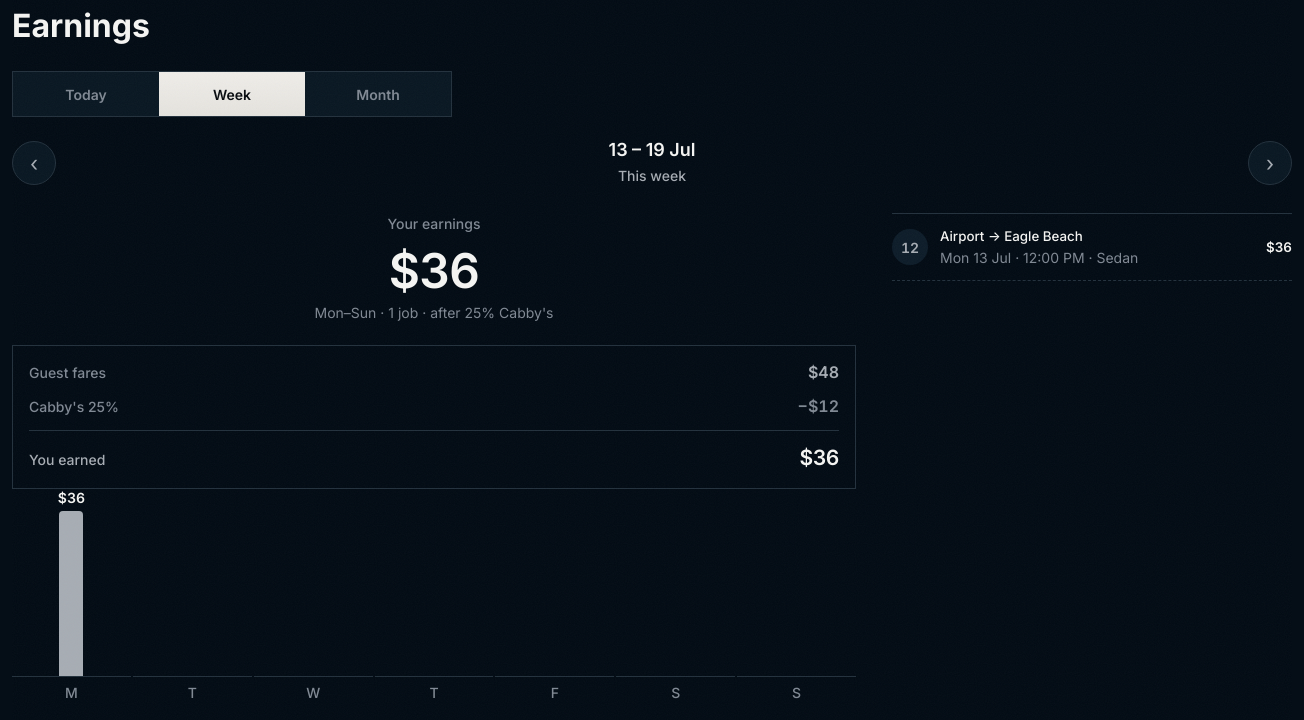
Earnings › totals a whole month, not only a week
The image size is (1304, 720).
Click the button "Month": point(378, 94) left=305, top=72, right=451, bottom=116
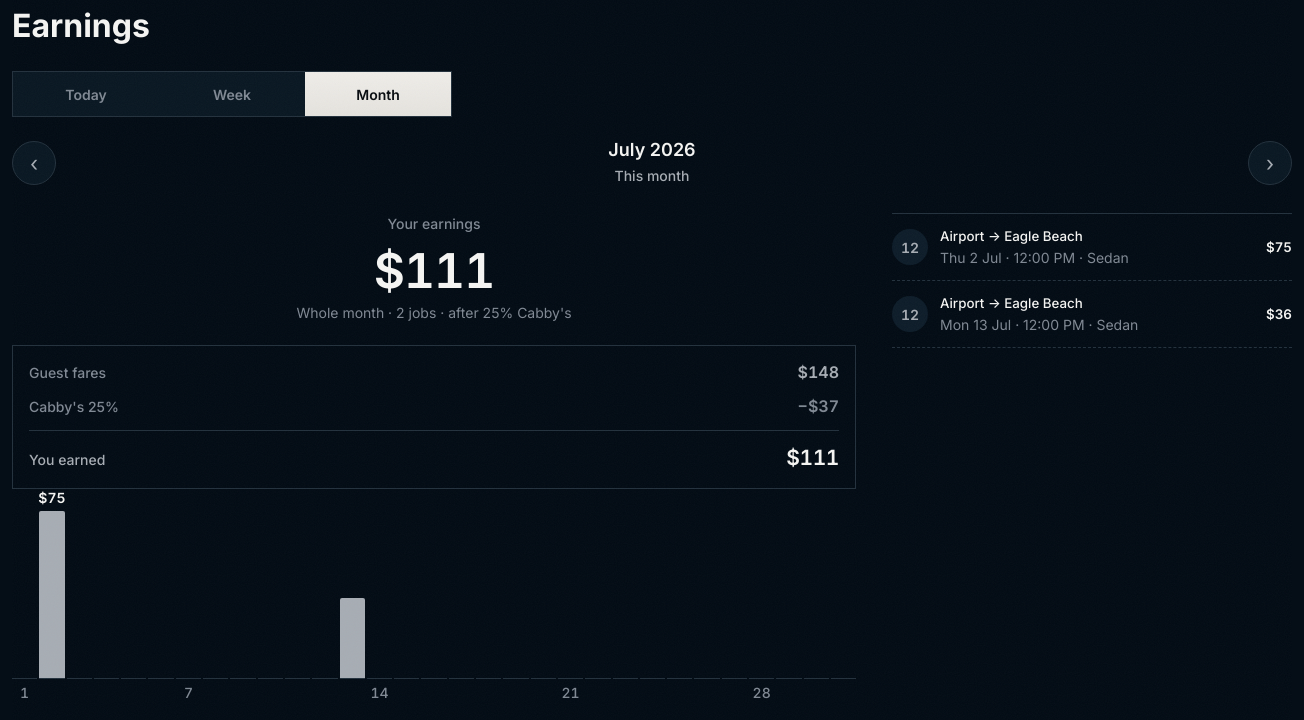
Check: the text "Whole month · 2 jobs · after 25% Cabby's" is shown, box left=296, top=304, right=572, bottom=321
